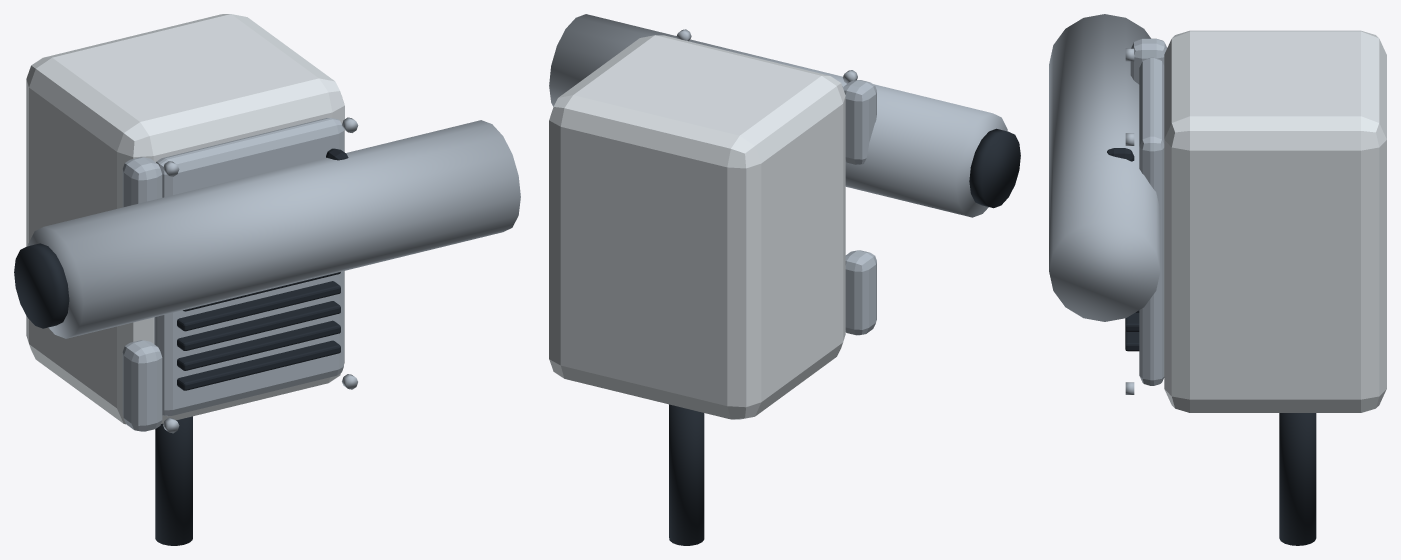
The model's file is covi.glb.
The picture shows the model from 3 angles, left to right: view 1: azimuth 30°, elevation 25°; view 2: azimuth 150°, elevation 25°; view 3: azimuth 270°, elevation 25°; orthographic projection. The views are drawn at different scales.
Parts seen in each view (by area): view 1: Gasketed access door, covi, Ventilation louvre; view 2: covi, Gasketed access door, Ventilation louvre; view 3: covi, Gasketed access door, Ventilation louvre.
Part boxes in pixels (<box>): Gasketed access door: <box>28,117,520,433</box>; covi: <box>26,14,344,424</box>; Ventilation louvre: <box>14,148,348,545</box>; covi: <box>549,35,845,419</box>; Gasketed access door: <box>549,14,1007,335</box>; Ventilation louvre: <box>669,128,1020,545</box>; covi: <box>1164,30,1386,412</box>; Gasketed access door: <box>1049,14,1166,394</box>; Ventilation louvre: <box>1107,148,1316,545</box>.
Size of the model in its own units: 0.69 by 0.69 by 0.455.
